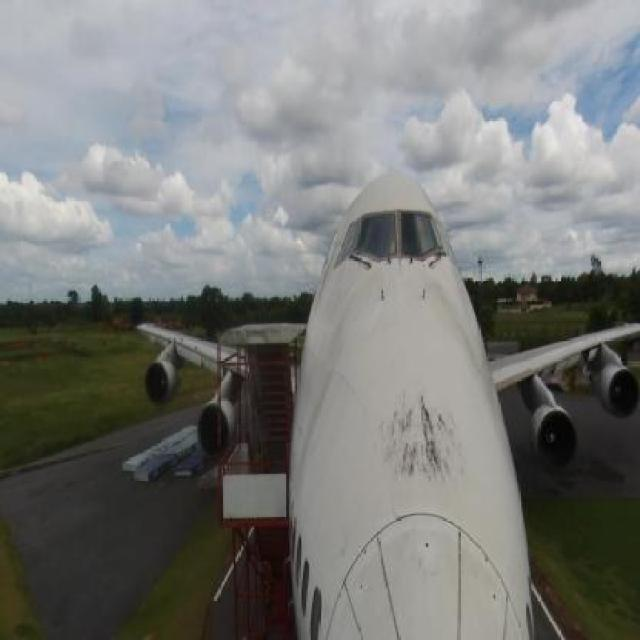Rust: (384, 380, 462, 491), (430, 275, 472, 380)
Scartch: (303, 297, 354, 415)
